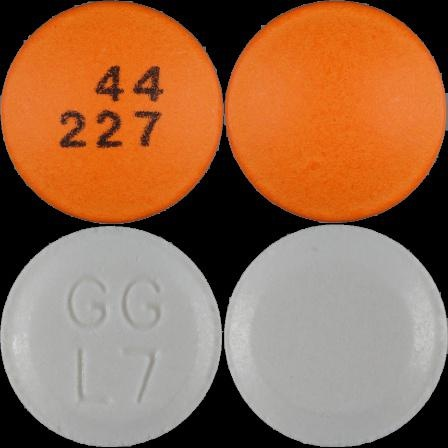69189-0921: (0, 0, 224, 224)
